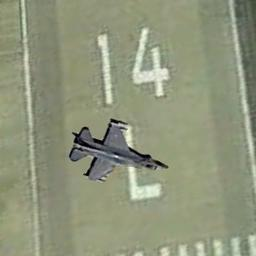Airplane: (69, 114, 172, 186)
